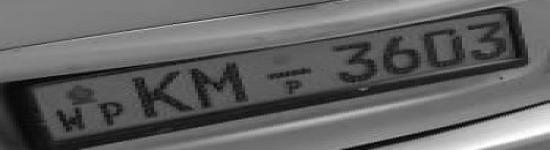-: (262, 66, 317, 80)
0: (420, 28, 468, 68)
3: (324, 39, 383, 84), (464, 18, 508, 62)
6: (381, 34, 424, 77)
K: (117, 68, 197, 120)
M: (186, 61, 253, 106)
P: (96, 101, 131, 127)
W: (48, 104, 93, 134)
